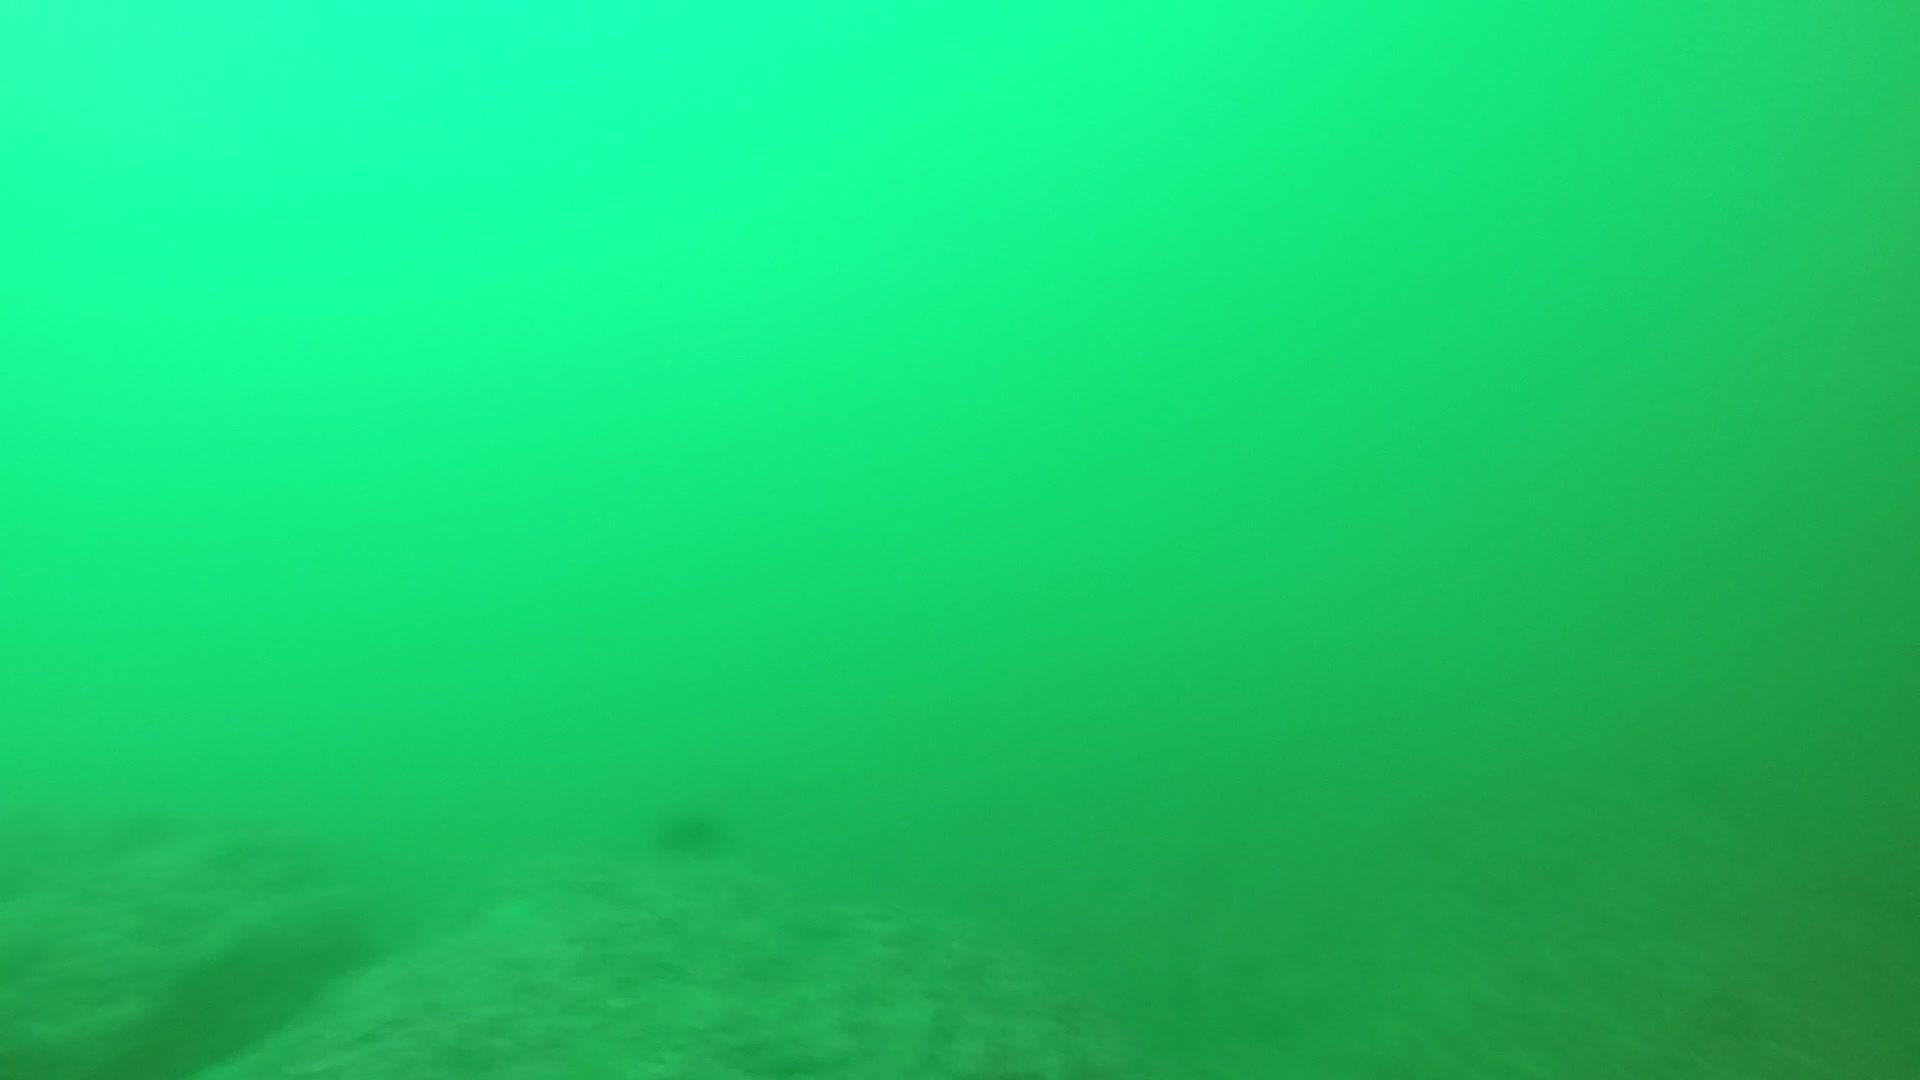echinus: (651, 794, 733, 858)
